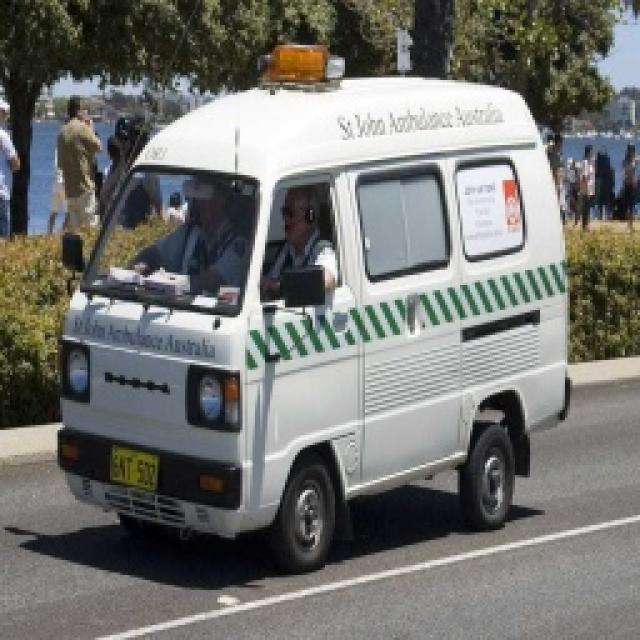ambulance: (60, 62, 570, 568)
